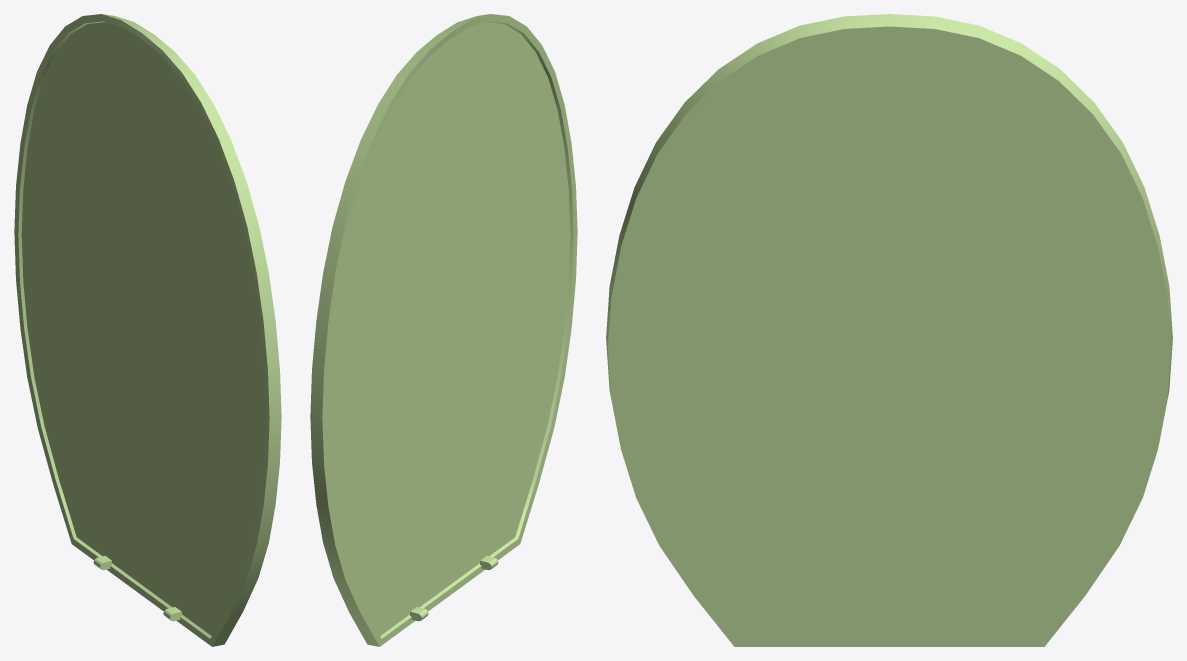
Rendered from Tapa 1.fbx.
3 renders of one model, left to right at view 1: azimuth 30°, elevation 25°; view 2: azimuth 150°, elevation 25°; view 3: azimuth 270°, elevation 25°, orthographic. The views are drawn at different scales.
Parts seen in each view (by area): view 1: Tapa_1; view 2: Tapa_1; view 3: Tapa_1.
Part boxes in pixels (x1,y1,x2,y2): Tapa_1: [14, 14, 281, 646]; Tapa_1: [310, 14, 577, 646]; Tapa_1: [606, 14, 1172, 646].
Size of the model in its own units: 0.0205 by 0.4757 by 0.3905.
